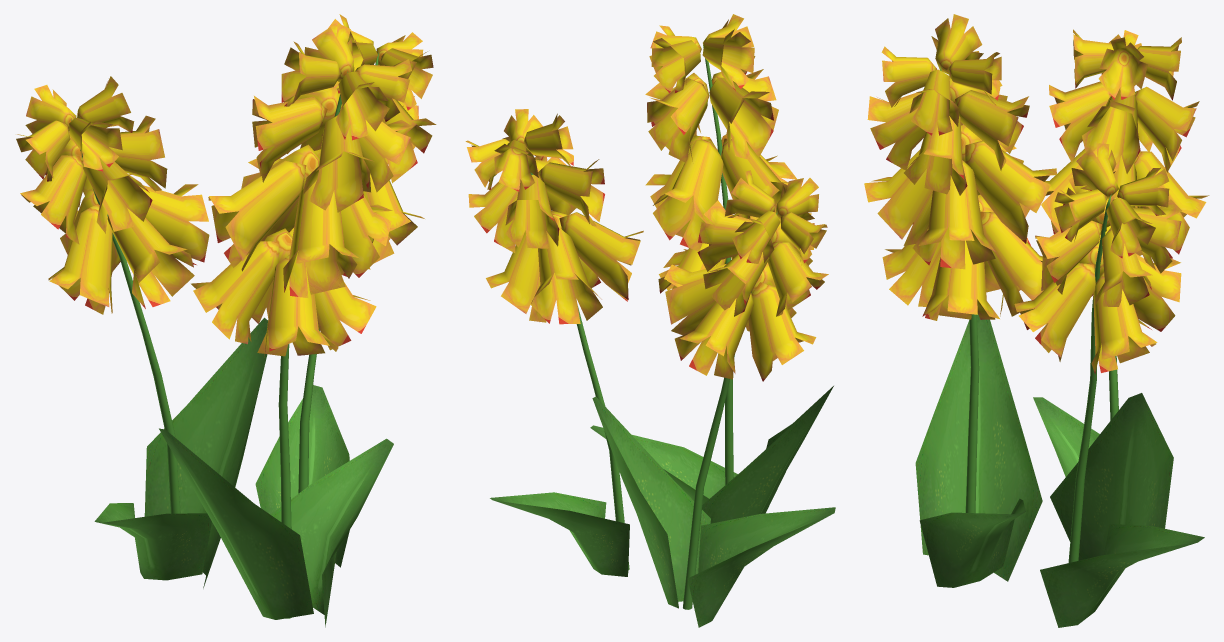
The model's file is jardin_flores2.obj.
3 views of the same model, side by side, from view 1: azimuth 30°, elevation 25°; view 2: azimuth 150°, elevation 25°; view 3: azimuth 270°, elevation 25° (orthographic). The views are drawn at different scales.
Parts seen in each view (by area): view 1: jardin_flores2; view 2: jardin_flores2; view 3: jardin_flores2.
Part boxes in pixels (bbox=[...]): jardin_flores2: bbox=[16, 14, 436, 627]; jardin_flores2: bbox=[465, 14, 835, 627]; jardin_flores2: bbox=[864, 14, 1209, 627].
Size of the model in its own units: 1.78 by 2.49 by 1.37.
